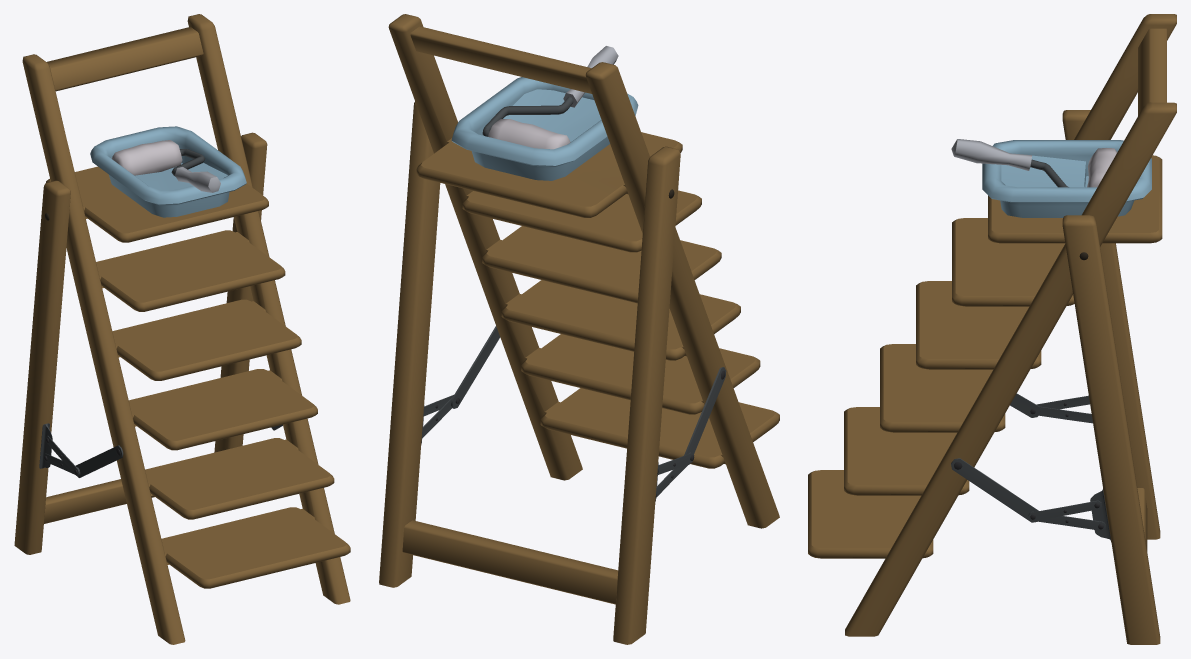
File: 164_wood_stairs.glb
The picture shows the model from 3 angles, left to right: view 1: azimuth 30°, elevation 25°; view 2: azimuth 150°, elevation 25°; view 3: azimuth 270°, elevation 25°; orthographic projection. The views are drawn at different scales.
Parts seen in each view (by area): view 1: ladder, paint tray, reinforcement up, reinforcement bottom, paint brush, paint brush holder, mechanism_big; view 2: ladder, paint tray, reinforcement bottom, reinforcement up, mechanism_big, paint brush, paint brush holder, mechanism_down, mechanism_up; view 3: ladder, paint tray, reinforcement up, mechanism_big, paint brush holder, mechanism_down, mechanism_up, paint brush.
Boxes of the visible parts, x1,y1,x2,y2 form: ladder: [14, 14, 350, 644]; paint tray: [90, 126, 246, 217]; reinforcement up: [47, 27, 203, 91]; reinforcement bottom: [44, 479, 154, 523]; paint brush: [112, 140, 182, 175]; paint brush holder: [171, 149, 220, 192]; mechanism_big: [75, 424, 282, 477]; ladder: [379, 14, 779, 644]; paint tray: [451, 77, 638, 180]; reinforcement bottom: [402, 520, 618, 604]; reinforcement up: [410, 26, 591, 93]; mechanism_big: [451, 326, 726, 464]; paint brush: [488, 119, 570, 149]; paint brush holder: [482, 46, 618, 136]; mechanism_down: [422, 397, 690, 497]; mechanism_up: [424, 395, 694, 475]; ladder: [808, 14, 1176, 644]; paint tray: [982, 140, 1151, 217]; reinforcement up: [1138, 28, 1166, 115]; mechanism_big: [951, 393, 1040, 522]; paint brush holder: [951, 139, 1068, 187]; mechanism_down: [1028, 406, 1105, 530]; mechanism_up: [1028, 395, 1101, 521]; paint brush: [1087, 148, 1117, 187].
Size of the model in its own units: 1.05 by 2.24 by 1.42.
